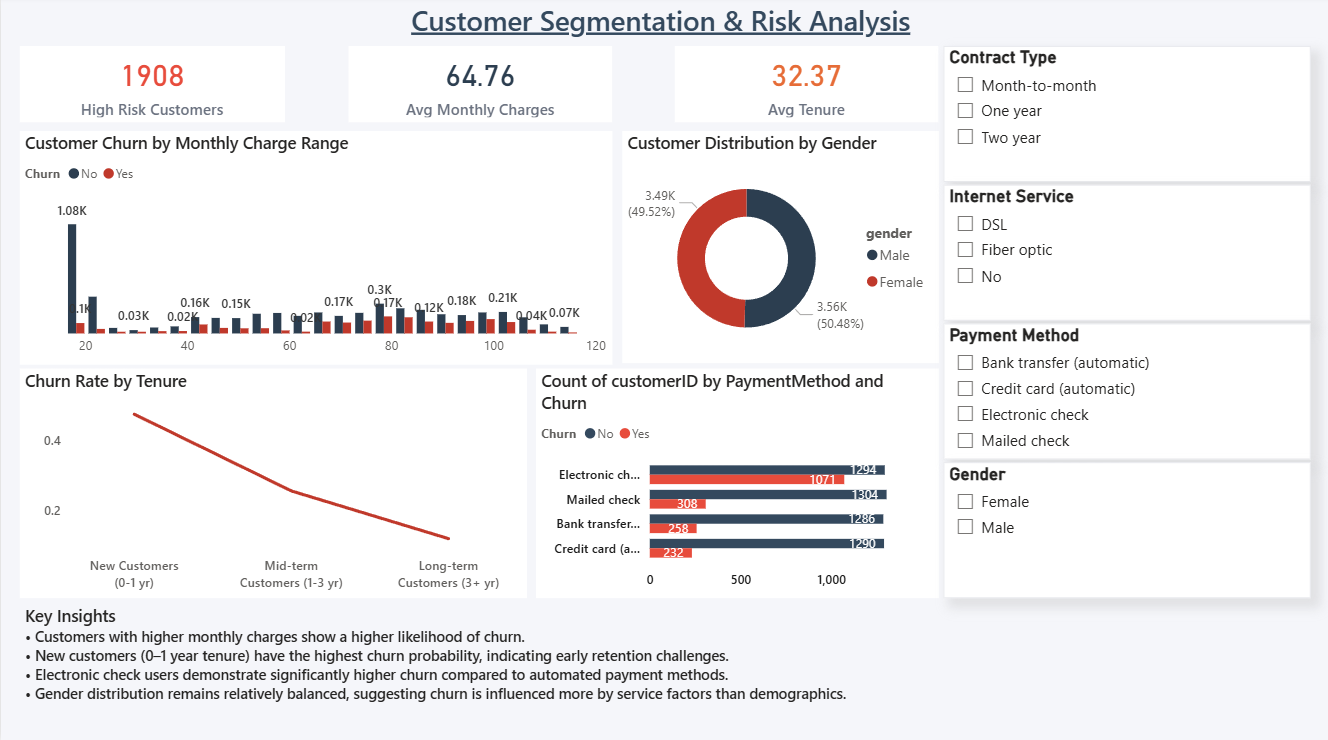

What the dashboard file says about the page in this screenshot:
{"tool":"powerbi","page":{"name":"Page 2","canvas":[1280,720],"ordinal":1},"visuals":[{"type":"textbox","box":[391.3,0,518.5,47.7],"z":0},{"type":"card","fields":{"Values":["Churn_data.Avg Monthly Charges"]},"box":[335.4,48.3,254.6,73.6],"z":1000},{"type":"card","fields":{"Values":["Churn_data.High Risk Customers"]},"box":[18.1,48.3,255.8,73.6],"z":2000},{"type":"card","fields":{"Values":["Churn_data.Avg Tenure"]},"box":[650.3,48.3,254.6,73.6],"z":3000},{"type":"donutChart","title":"Customer Distribution by Gender","fields":{"Category":["Churn_data.gender"],"Y":["CountNonNull(Churn_data.customerID)"]},"box":[599.6,130.3,305.2,224.4],"z":4000},{"type":"lineChart","title":"Churn Rate by Tenure","fields":{"Category":["Churn_data.Tenure Group"],"Y":["Churn_data.Churn Rate"]},"box":[18.1,359.5,489.8,222],"z":5000},{"type":"clusteredBarChart","fields":{"Category":["Churn_data.PaymentMethod"],"Y":["CountNonNull(Churn_data.customerID)"],"Series":["Churn_data.Churn"]},"box":[516.4,359.5,388.5,222],"z":6000},{"type":"slicer","title":"Contract Type","fields":{"Values":["Churn_data.Contract"]},"box":[909.7,48.3,354.7,131],"z":7000},{"type":"slicer","title":"Internet Service","fields":{"Values":["Churn_data.InternetService"]},"box":[909.7,181.8,354.7,131.5],"z":8000},{"type":"slicer","title":"Payment Method","fields":{"Values":["Churn_data.PaymentMethod"]},"box":[909.7,315.9,354.7,131.5],"z":9000},{"type":"slicer","title":"Gender","fields":{"Values":["Churn_data.gender"]},"box":[909.7,450,354.7,131.5],"z":10000},{"type":"clusteredColumnChart","title":"Customer Churn by Monthly Charge Range","fields":{"Category":["Churn_data.MonthlyCharges (bins)"],"Y":["CountNonNull(Churn_data.customerID)"],"Series":["Churn_data.Churn"]},"box":[18.1,130.3,571.9,225.6],"z":11000},{"type":"textbox","box":[18.1,581.5,886.7,138.7],"z":12000}]}

Visuals, with their boxes in screenshot pixels (x1, y1, x2, y2), scaled from the page's 1280x720 canvas onto the 1328x740 screenshot:
textbox: box(406, 0, 944, 49)
card - Churn_data.Avg Monthly Charges: box(348, 50, 612, 125)
card - Churn_data.High Risk Customers: box(19, 50, 284, 125)
card - Churn_data.Avg Tenure: box(675, 50, 939, 125)
"Customer Distribution by Gender" donutChart: box(622, 134, 939, 365)
"Churn Rate by Tenure" lineChart: box(19, 369, 527, 598)
clusteredBarChart - Churn_data.PaymentMethod x CountNonNull(Churn_data.customerID): box(536, 369, 939, 598)
"Contract Type" slicer: box(944, 50, 1312, 184)
"Internet Service" slicer: box(944, 187, 1312, 322)
"Payment Method" slicer: box(944, 325, 1312, 460)
"Gender" slicer: box(944, 462, 1312, 598)
"Customer Churn by Monthly Charge Range" clusteredColumnChart: box(19, 134, 612, 366)
textbox: box(19, 598, 939, 739)
